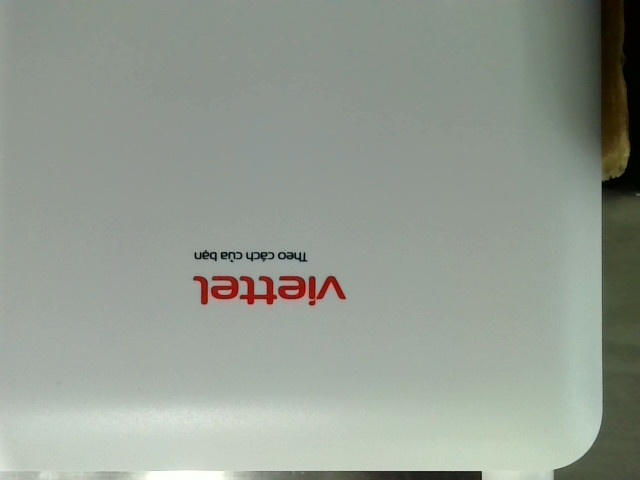AY_Viettel: (188, 246, 350, 310)
